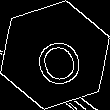O_N: (25, 24, 85, 86)
